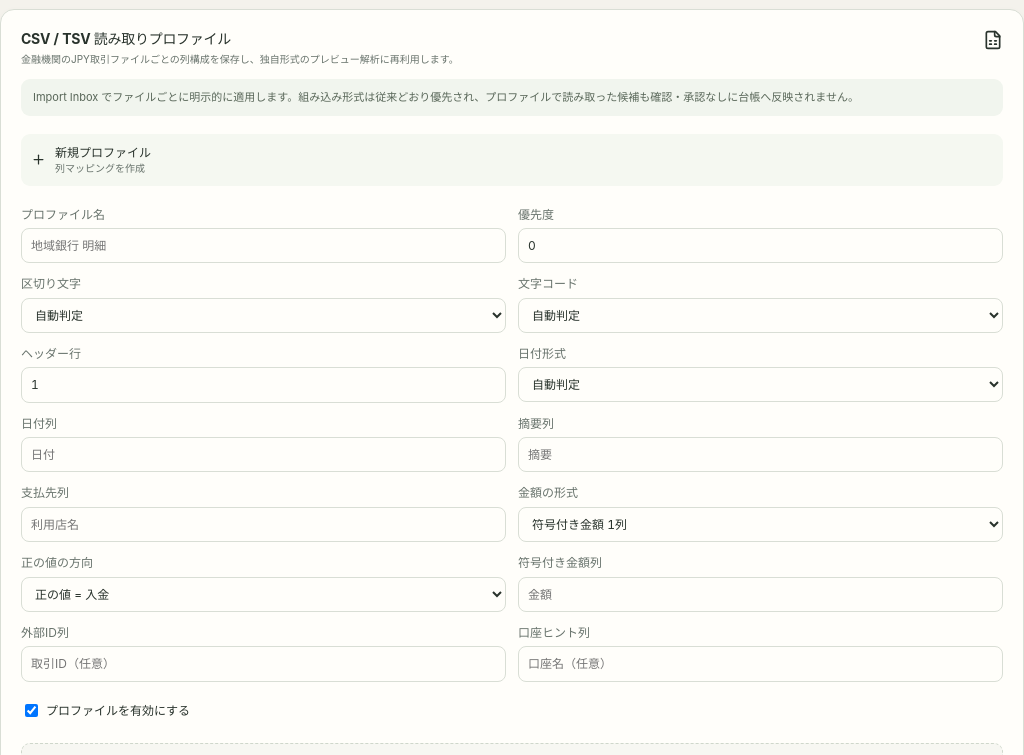
Test: DelimitedParserProfilesPanel › rejects duplicate columns and values outside backend bounds
The width and height of the screenshot is (1024, 755).
Type "Invalid" into the field labelled "プロファイル名". click: (264, 246)
box: [21,228,506,263]
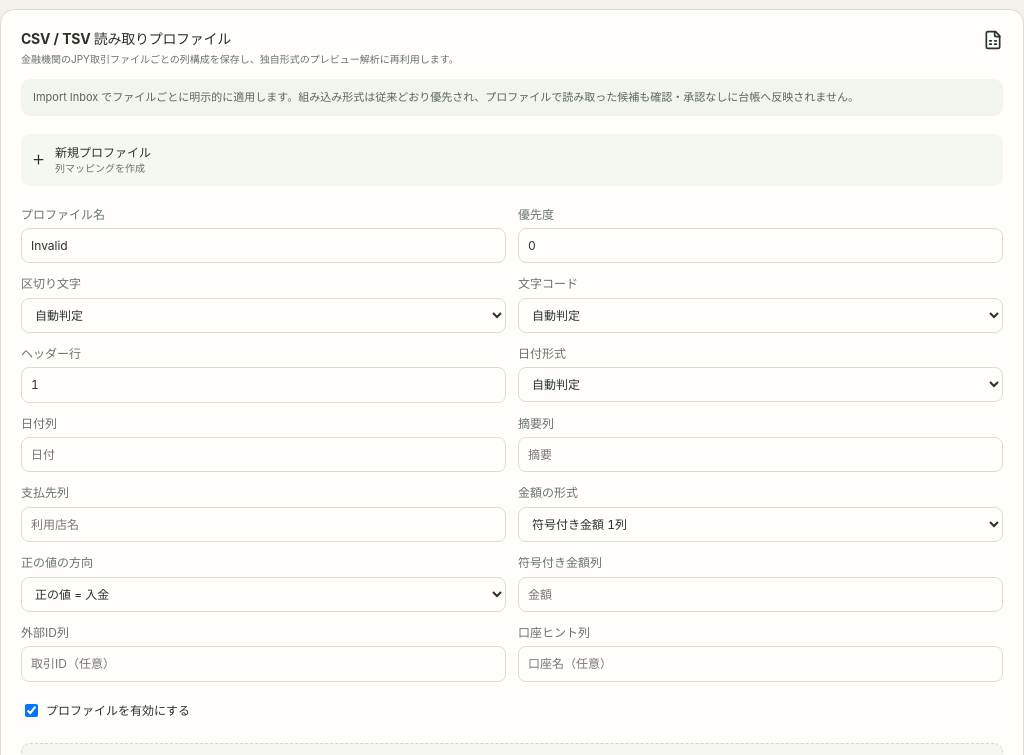
Type "Same" into the field labelled "日付列". click: (264, 455)
box: [21,437,506,472]
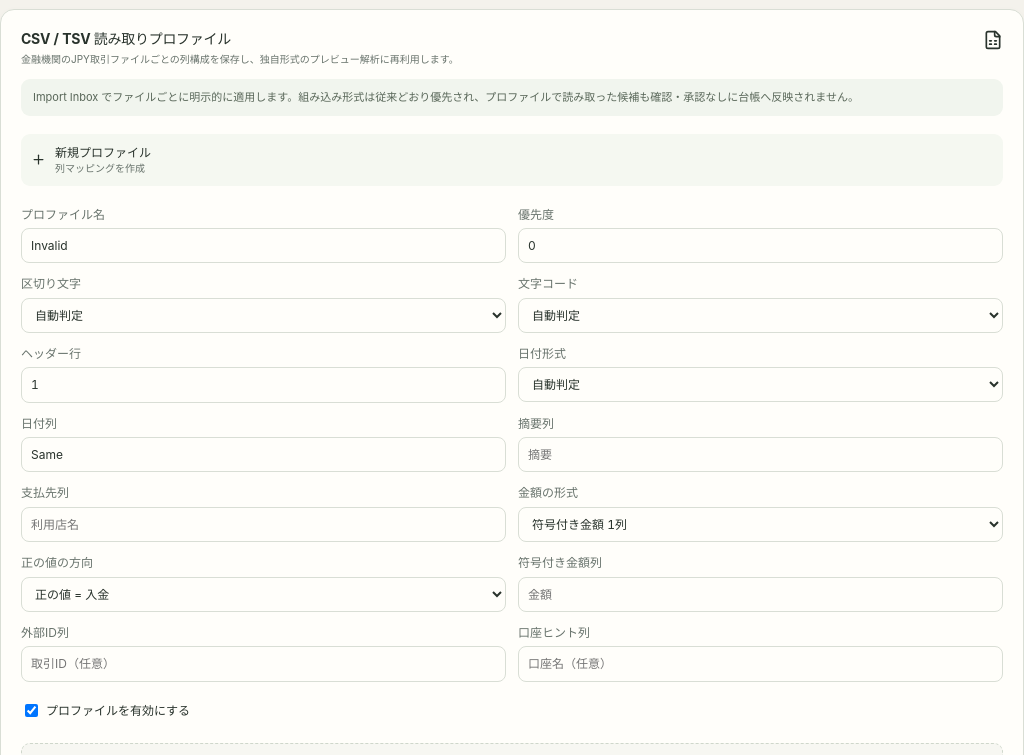
Type "Same" into the field labelled "摘要列". click: (760, 455)
box: [518,437,1003,472]
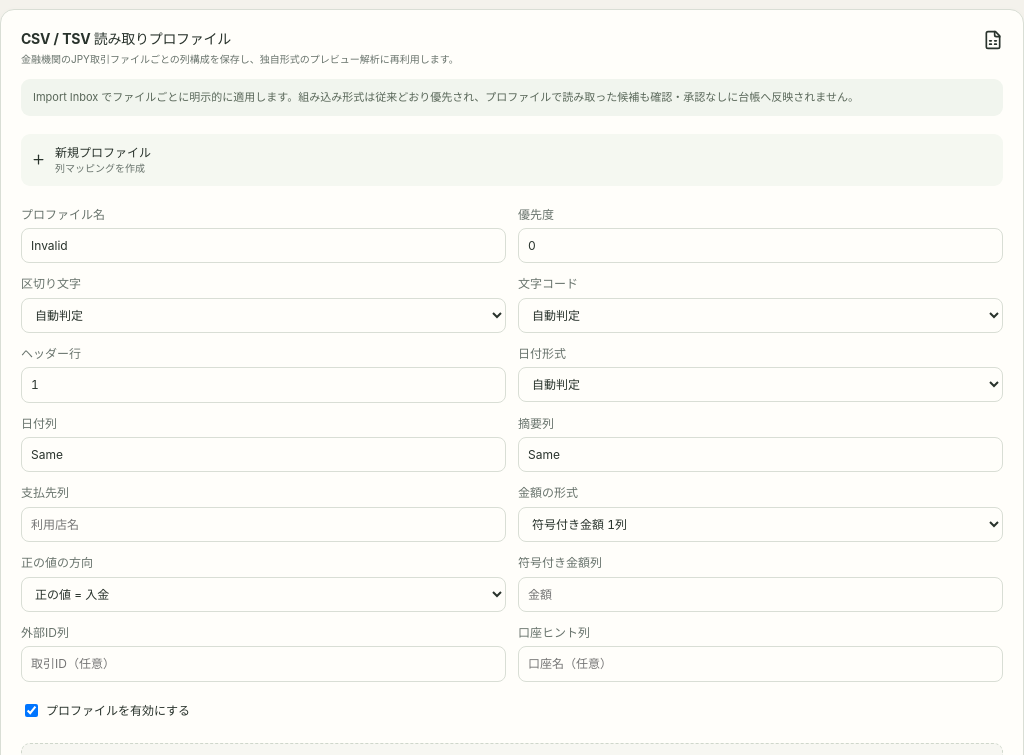
Type "Amount" into the field labelled "符号付き金額列". click: (760, 594)
box: [518,576,1003,612]
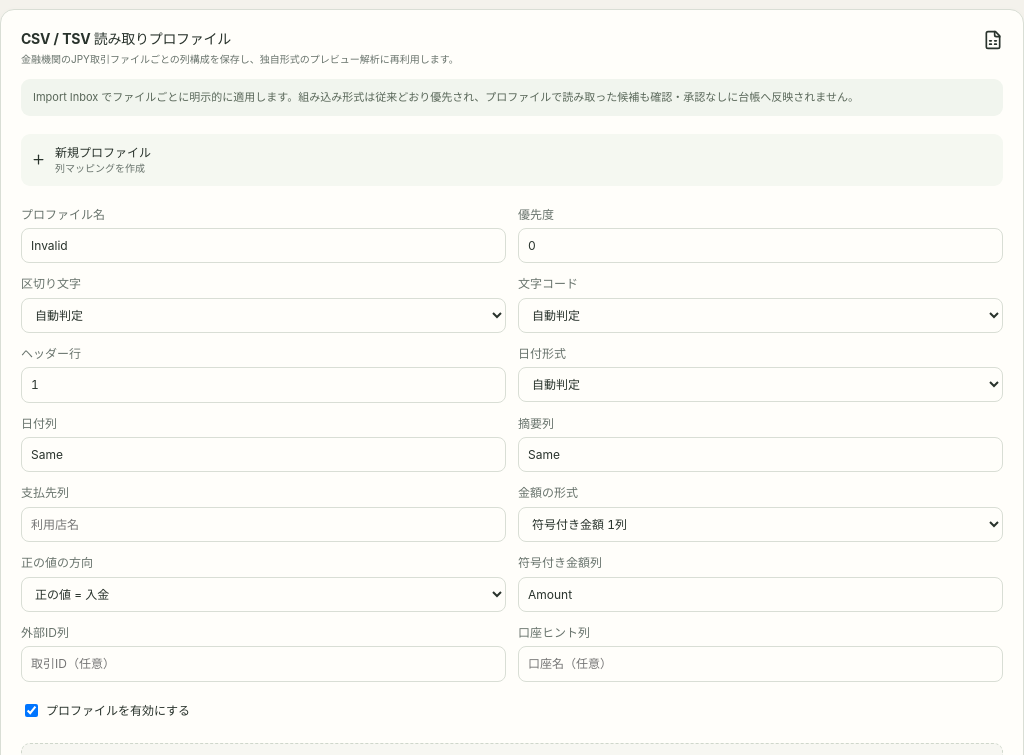
Replace the text in the field labelled "摘要列" with "Description". click: (760, 455)
box: [518,437,1003,472]
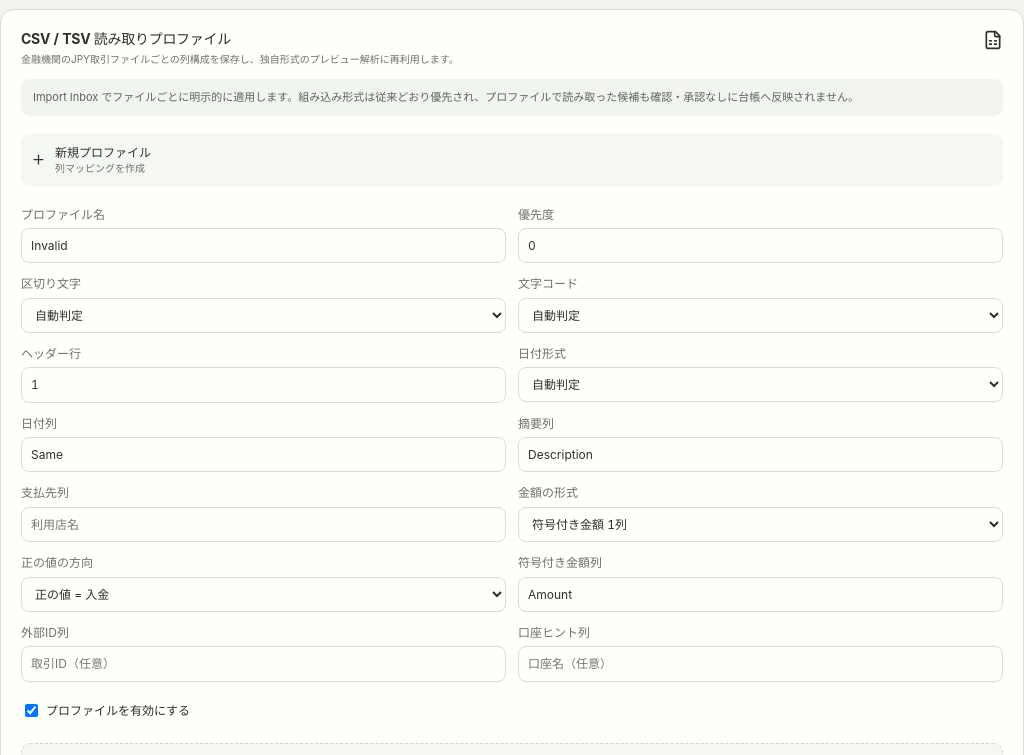
Replace the text in the number field labelled "ヘッダー行" with "1001". click: (264, 385)
box: [21,367,506,403]
(page scrolled)
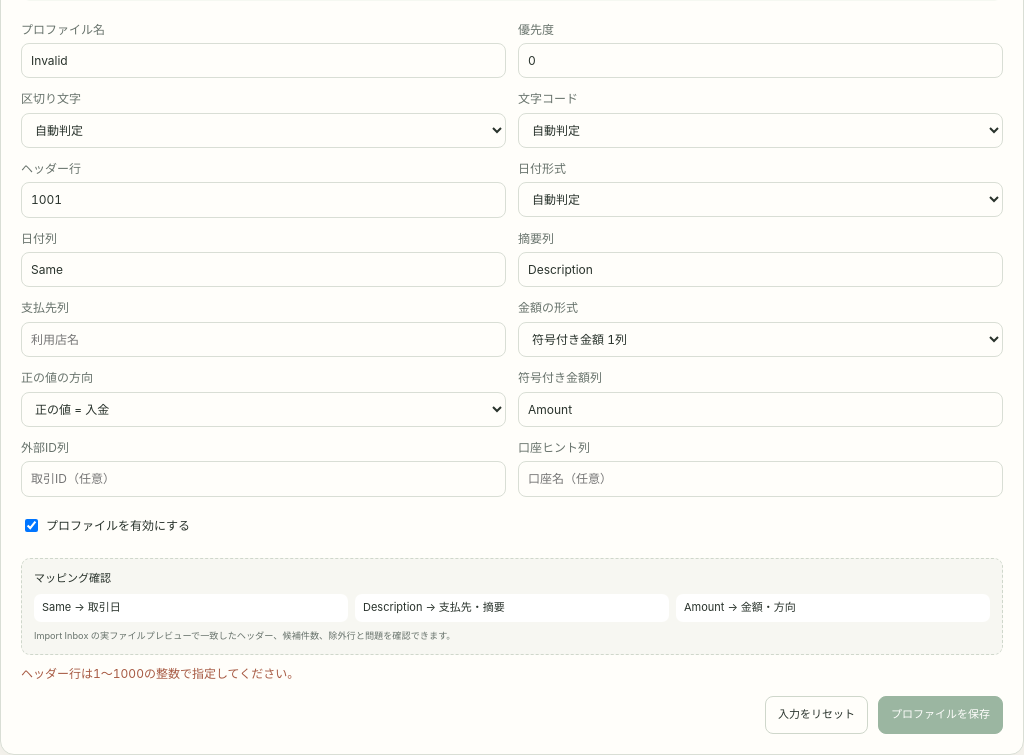
Result: the text "ヘッダー行は1〜1000の整数で指定してください。" is shown at [21,666,299,681]
